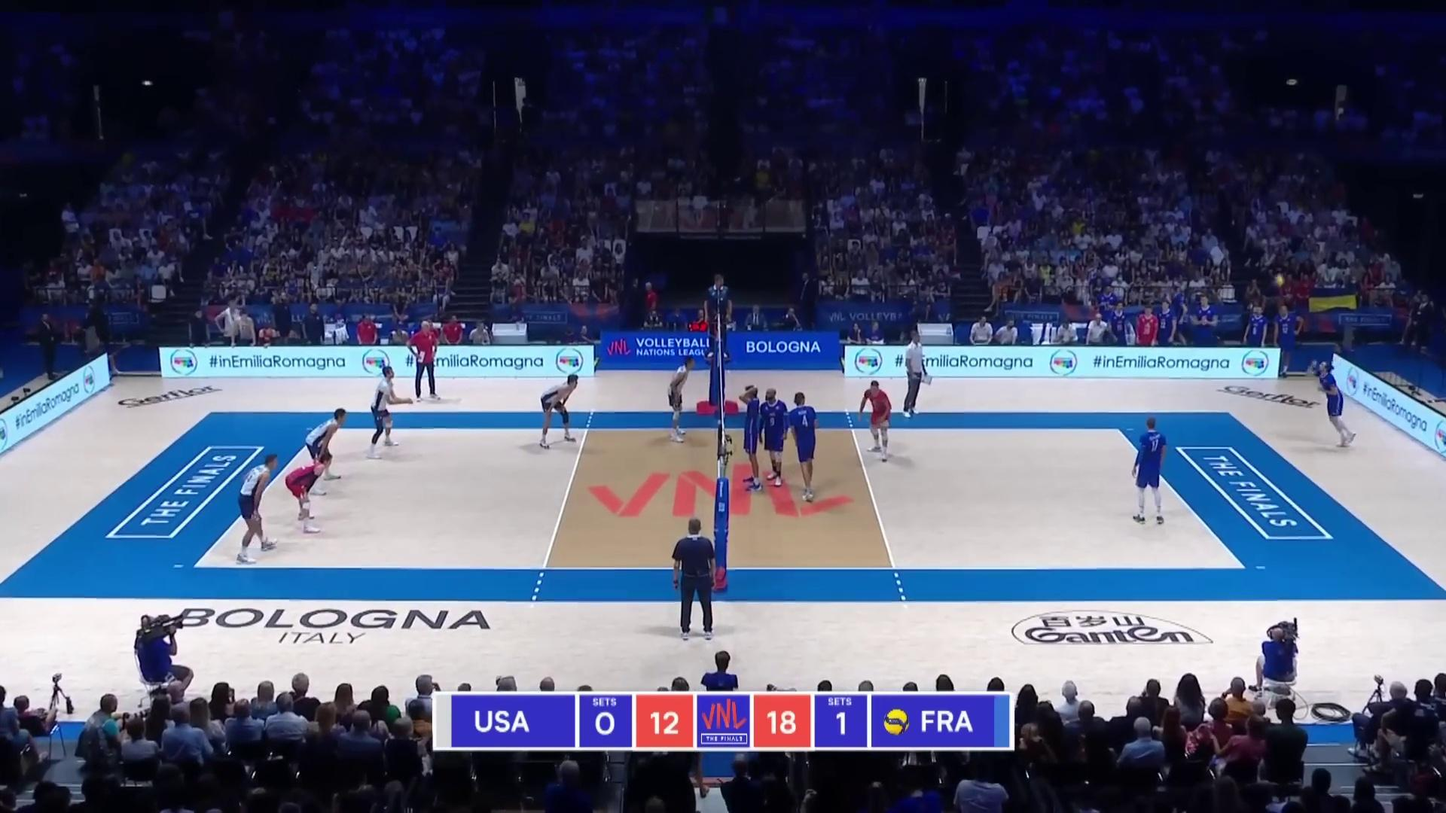player: (238, 454, 279, 563), (1310, 359, 1356, 450), (1129, 419, 1167, 526), (368, 365, 409, 456), (787, 392, 821, 501), (289, 453, 332, 537), (538, 375, 578, 451), (856, 380, 893, 462), (306, 411, 346, 485), (760, 388, 789, 487), (665, 357, 697, 442), (739, 385, 764, 490)
refree: (669, 517, 721, 642), (705, 276, 733, 359)
